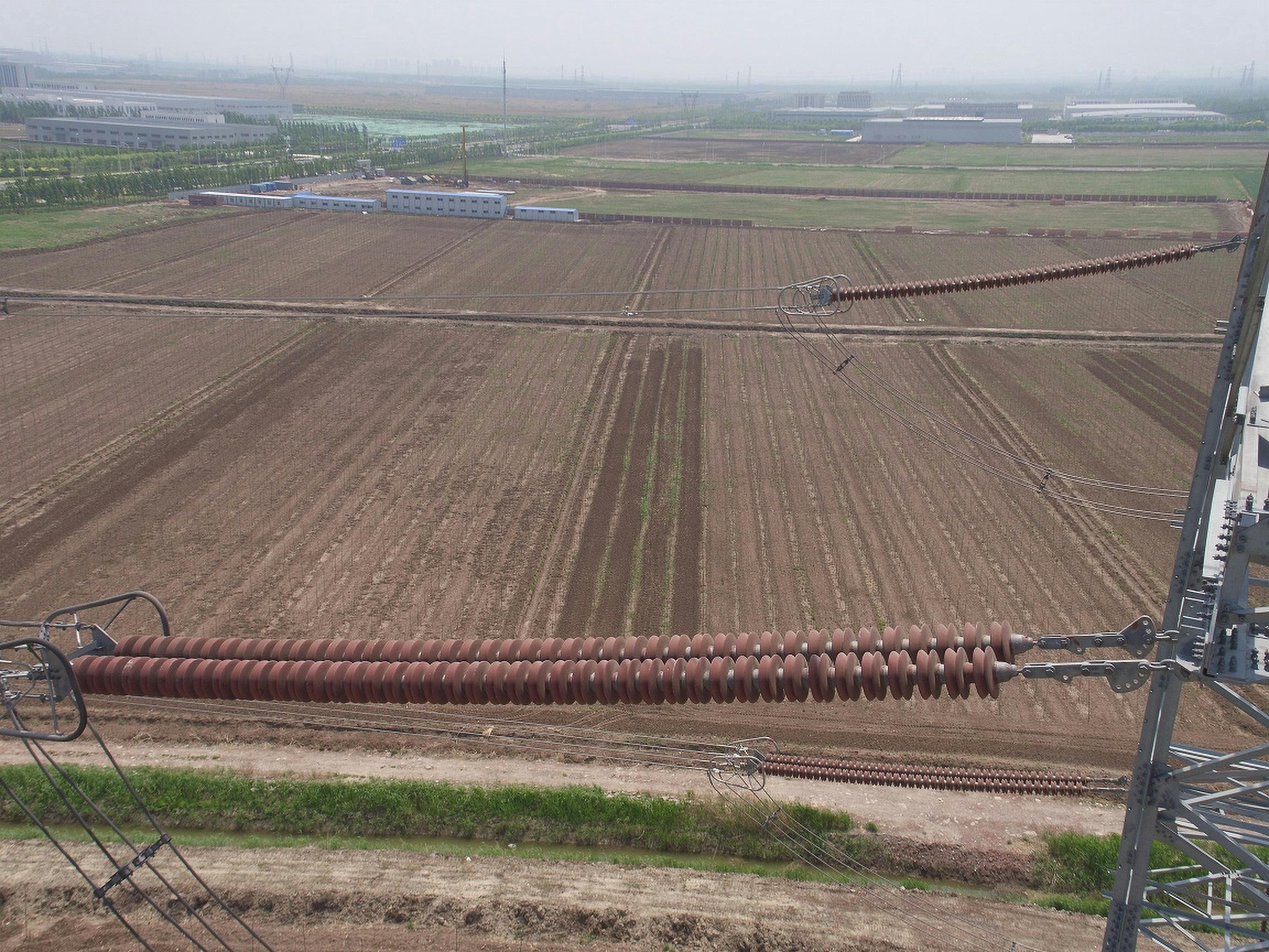insulator: (67, 615, 1020, 709), (827, 239, 1200, 305), (756, 752, 1091, 798)
